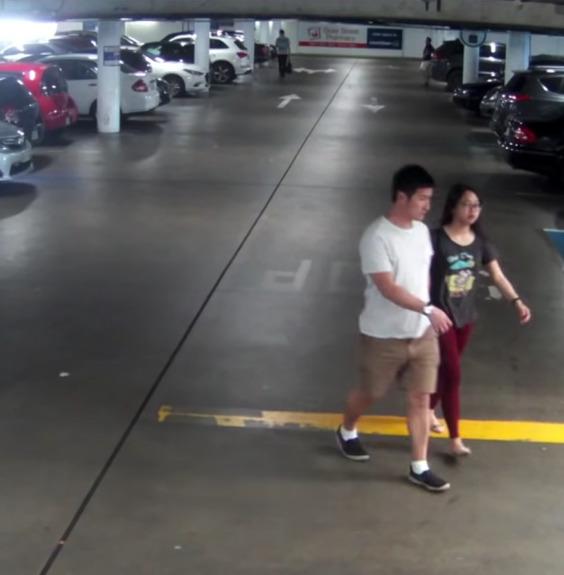person: (327, 166, 453, 492), (429, 185, 532, 460), (272, 29, 294, 81)
